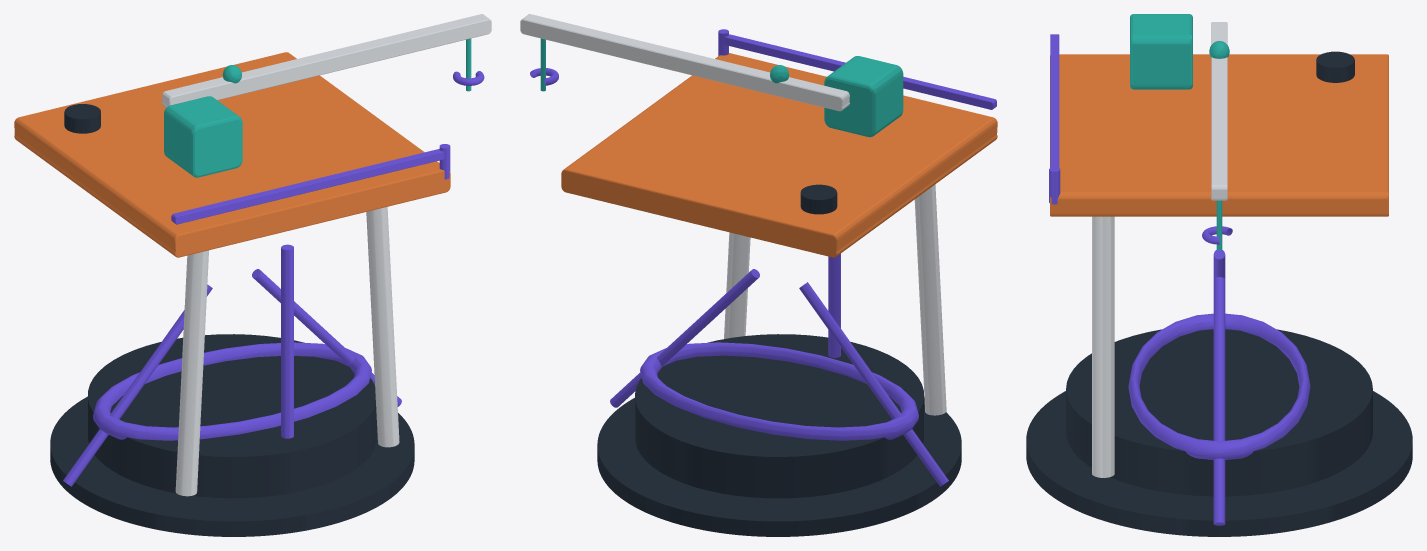
Rendered from 0469_机械图鉴_剪叉式升降机.glb.
3 views of the same model, side by side, from view 1: azimuth 30°, elevation 25°; view 2: azimuth 150°, elevation 25°; view 3: azimuth 270°, elevation 25° (orthographic). The views are drawn at different scales.
Visible parts, largest first — view 1: card_0469; view 2: card_0469; view 3: card_0469.
Part boxes in pixels (x1,y1,x2,y2): card_0469: [14, 14, 491, 536]; card_0469: [520, 14, 997, 536]; card_0469: [1026, 14, 1412, 536].
Bounding box in the file's own units: 1.09 × 1 × 0.8194.
